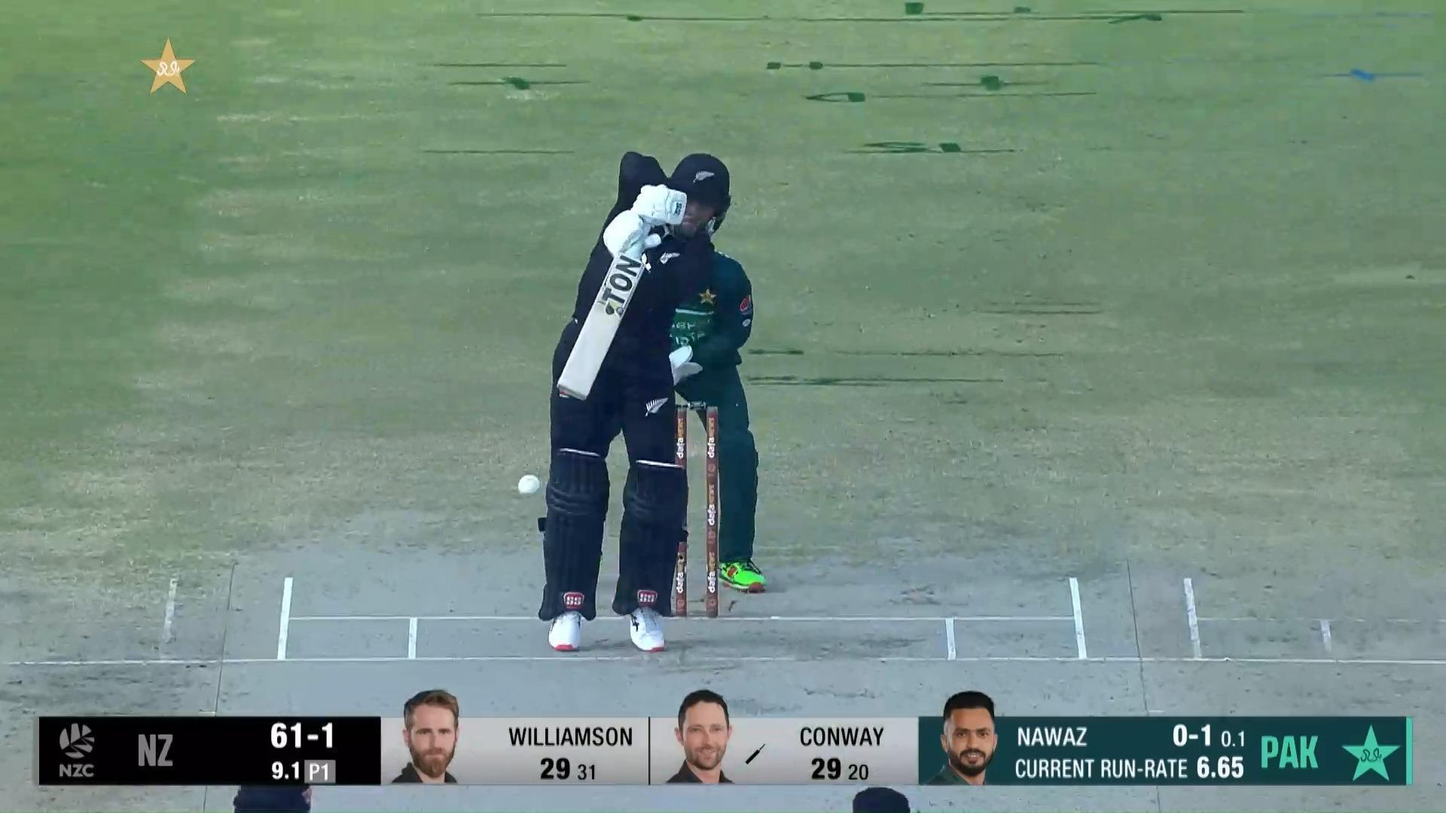BM 1: (538, 152, 733, 654)
BO: (850, 786, 911, 813)
